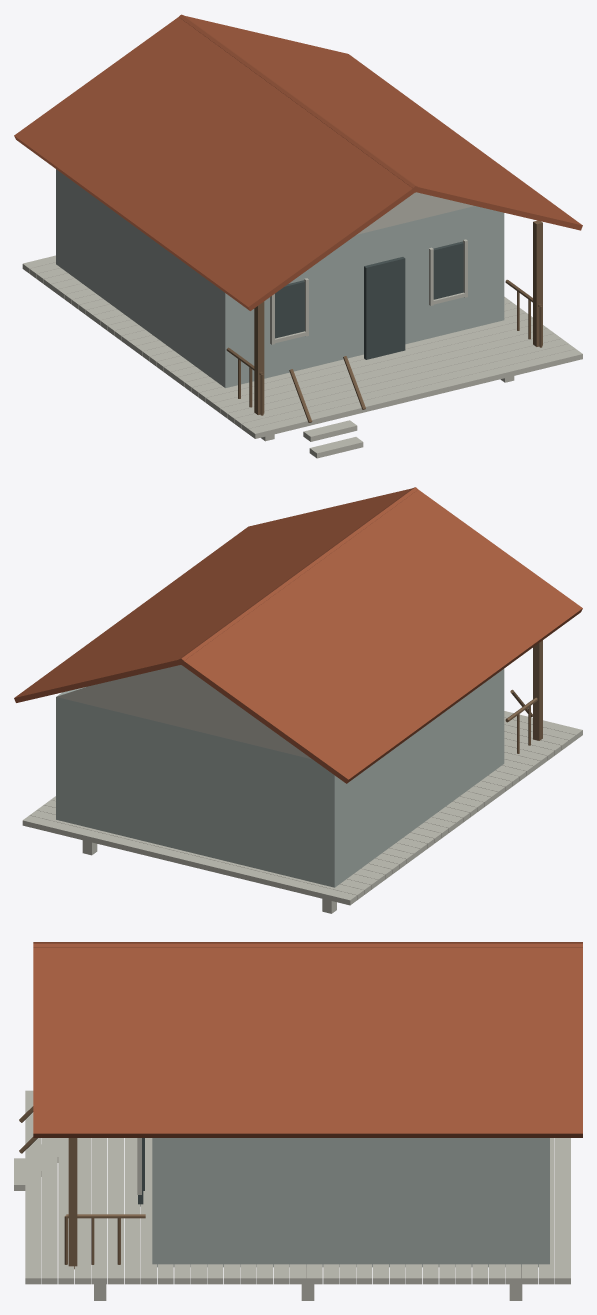
File: thai_raised.glb
The picture shows the model from 3 angles, top to bottom: view 1: azimuth 30°, elevation 25°; view 2: azimuth 150°, elevation 25°; view 3: azimuth 270°, elevation 25°; orthographic projection. The views are drawn at different scales.
Visible parts, largest first — view 1: thai_raised; view 2: thai_raised; view 3: thai_raised.
Boxes of the visible parts, box(x1,y1,x2,y2) form: thai_raised: box(14, 14, 582, 458); thai_raised: box(14, 487, 582, 913); thai_raised: box(14, 942, 582, 1300).
Size of the model in its own units: 6.84 by 4.77 by 8.59.
